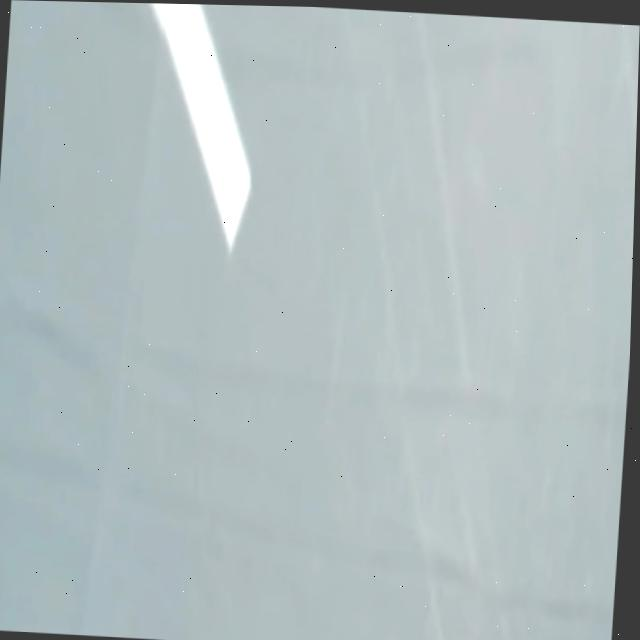center: (150, 3, 249, 253)
